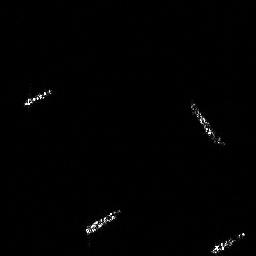ship: (191, 102, 220, 144), (86, 209, 121, 233), (211, 232, 246, 253), (23, 87, 52, 105)
